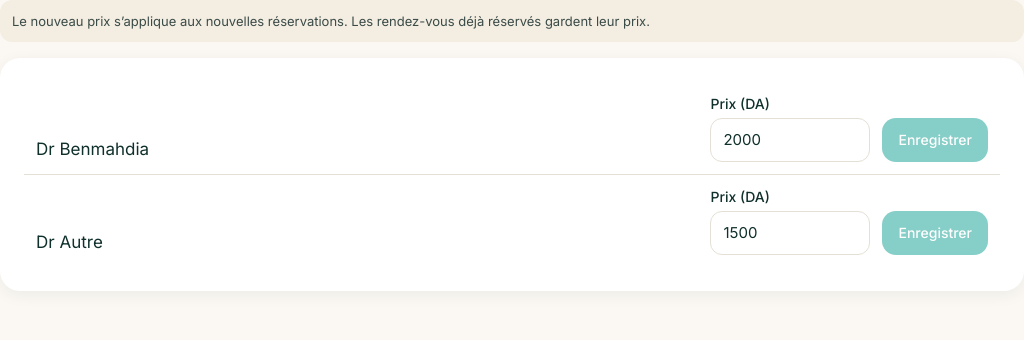
Test: Prices › sets the price of one doctor
Expected: the button "Enregistrer" in the row of "Dr Autre" is disabled, [882,211,988,255]
Replace the text in the number field named "Prix (DA) · Dr Autre" with "1800" at (790, 233), box [710,211,870,255]
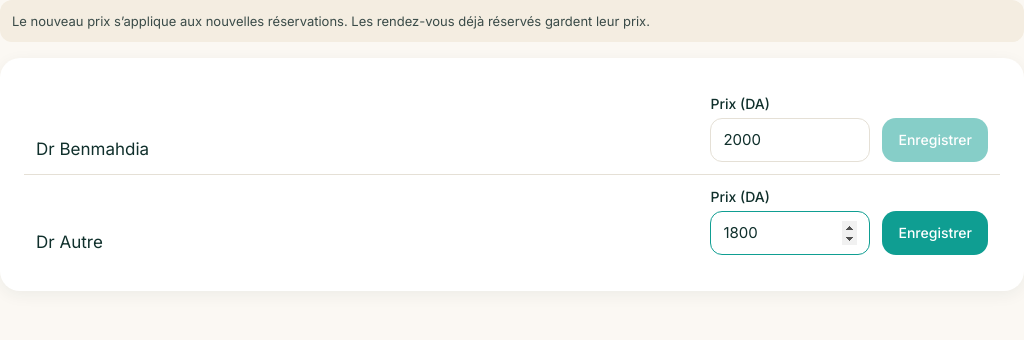
Click the button "Enregistrer" in the row of "Dr Autre" at (935, 233), box [882,211,988,255]
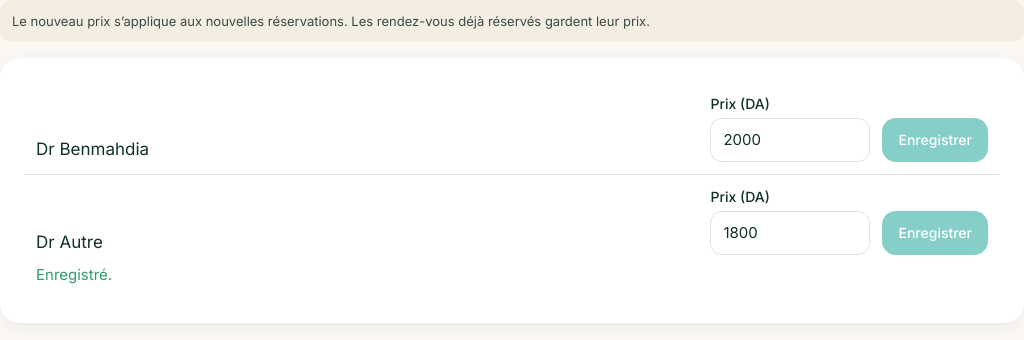
Expected: the number field named "Prix (DA) · Dr Benmahdia" holds "2000", [710,118,870,162]
Expected: the message reads "Enregistré.", [36,265,112,284]
